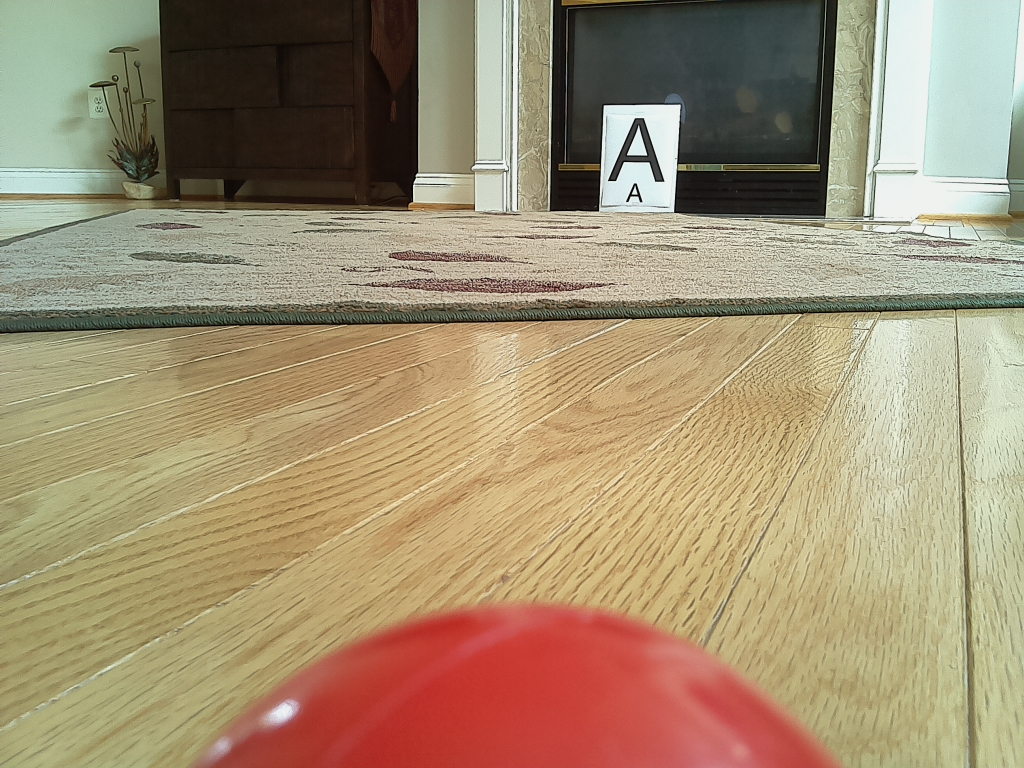letter: (611, 118, 667, 185)
